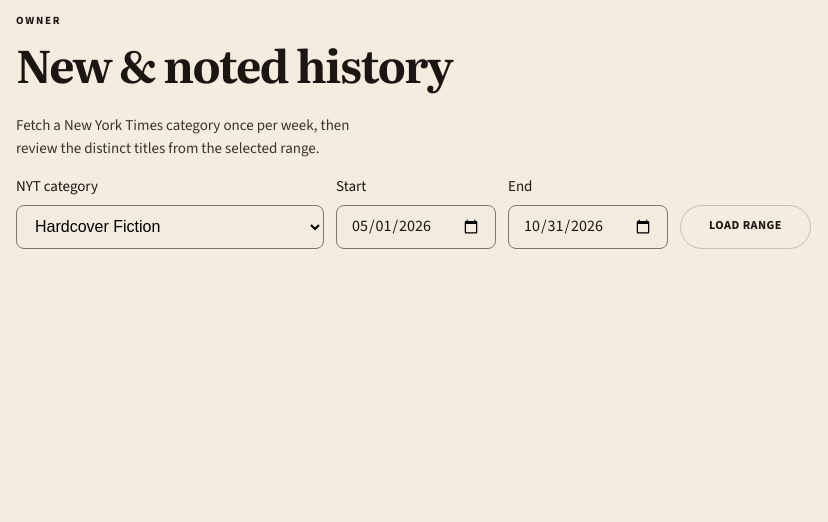
Scenario: labels a history range as the household model
Step 1. Click the button "Load range" → click(746, 226), box 680,204 -> 811,248
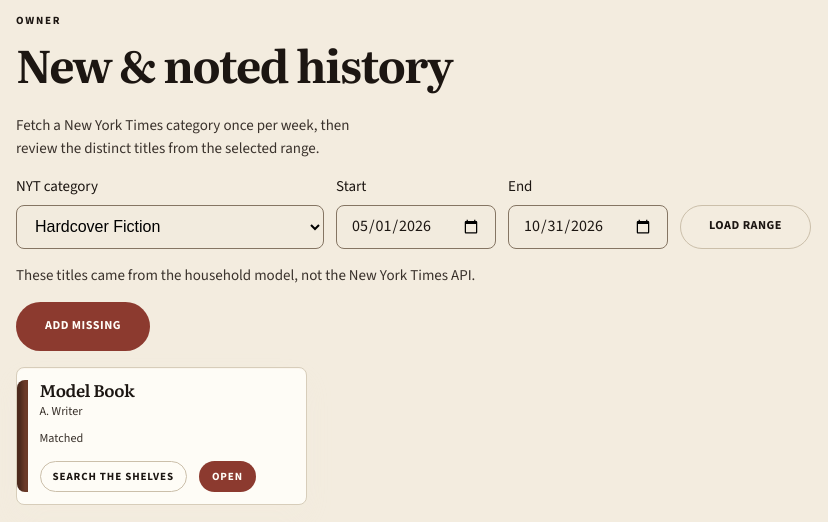
Result: the heading "Model Book" is shown at 40,377 -> 134,402
Result: the text with test id "noted-history-origin" shows "household model" at 16,264 -> 475,286
Result: the text with test id "noted-history-origin" shows "not the New York Times API" at 16,264 -> 475,286
